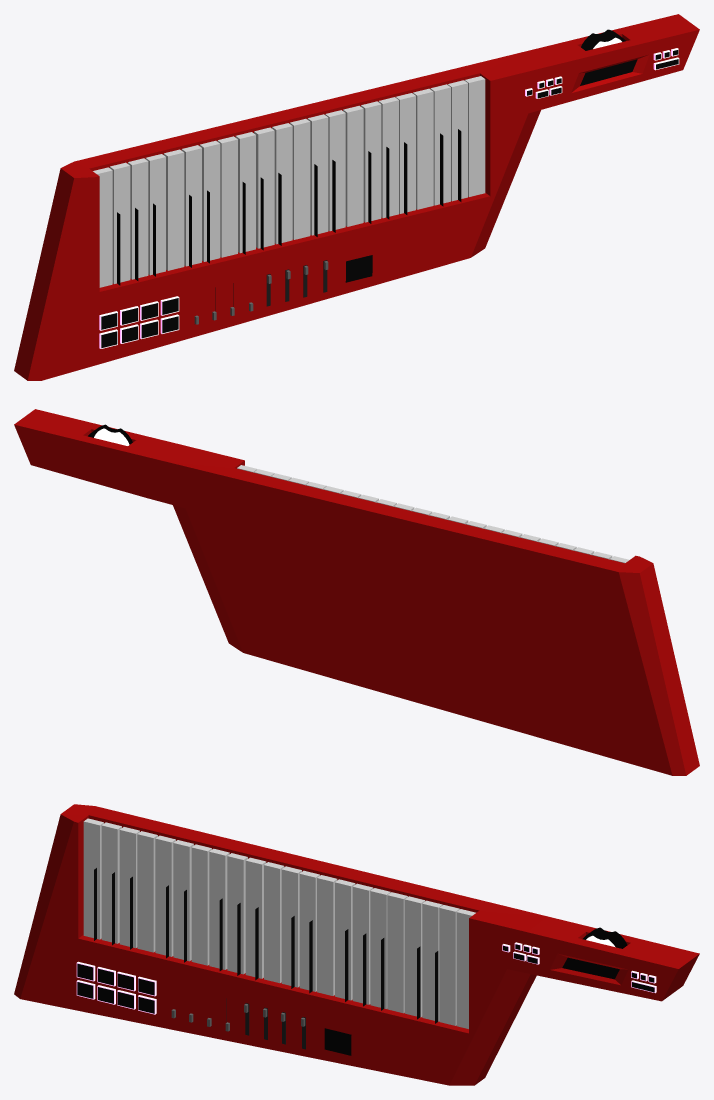
The model's file is keytar_alesis_vortex_2.glb.
The picture shows the model from 3 angles, top to bottom: view 1: azimuth 30°, elevation 25°; view 2: azimuth 150°, elevation 25°; view 3: azimuth 330°, elevation 25°; orthographic projection.
Visible parts, largest first — view 1: Cube.234_0; view 2: Cube.234_0; view 3: Cube.234_0.
Part boxes in pixels (x1,y1,x2,y2): Cube.234_0: (14, 14, 699, 380); Cube.234_0: (14, 409, 699, 775); Cube.234_0: (14, 804, 699, 1085).
Size of the model in its own units: 0.9075 by 0.2586 by 0.0542.
